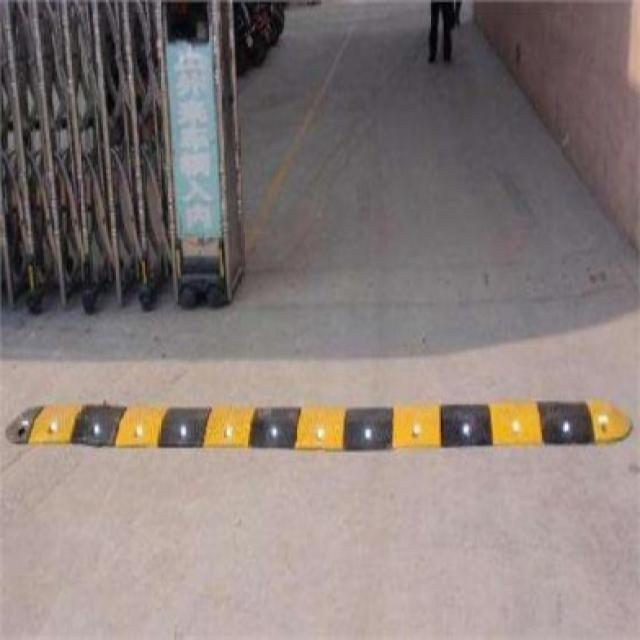Speed Bump: (11, 399, 640, 448)
